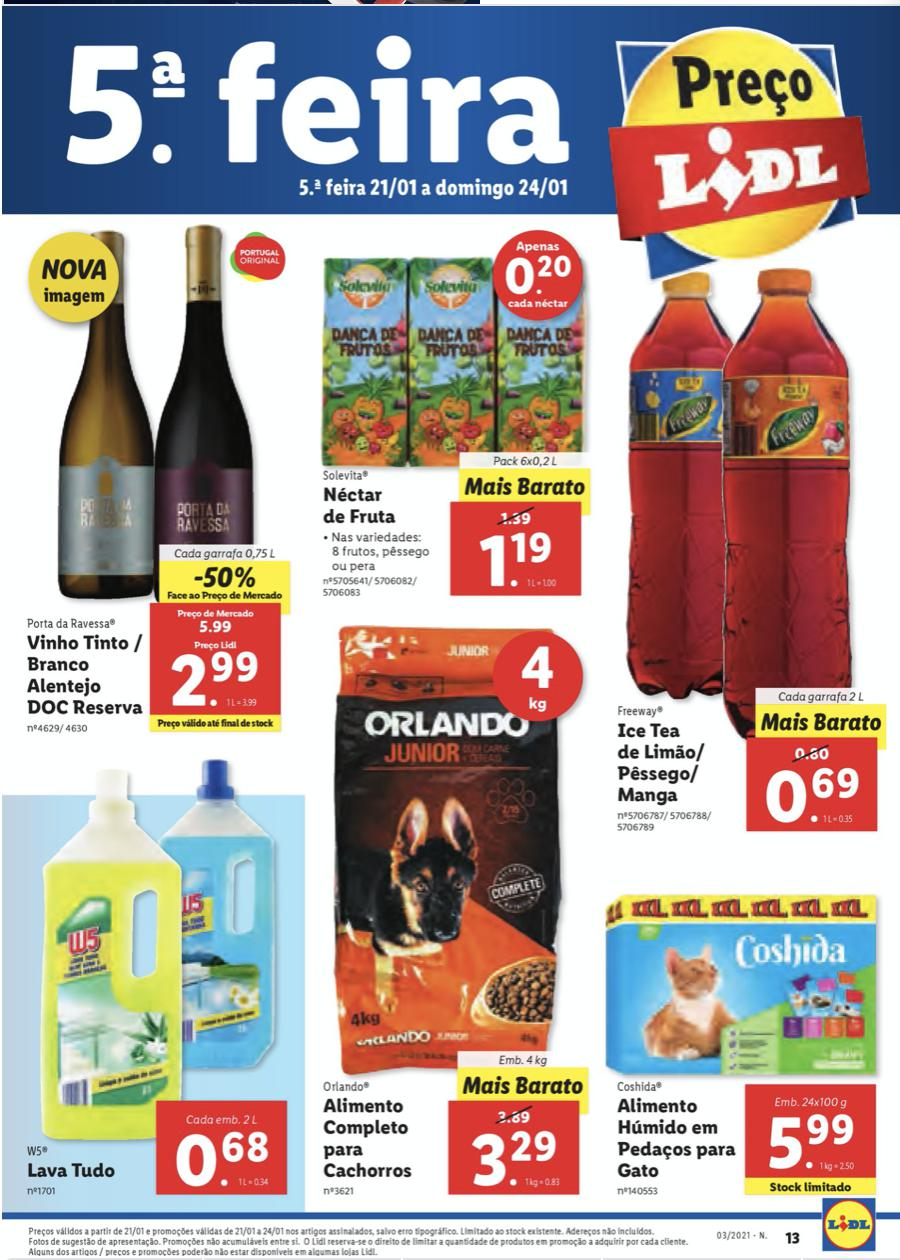name: (614, 1096, 739, 1181), (21, 631, 145, 716), (320, 1096, 420, 1182), (612, 716, 706, 806), (321, 485, 400, 527), (23, 1159, 121, 1184)
price: (156, 643, 265, 712), (460, 1129, 559, 1195), (178, 1129, 273, 1193), (768, 765, 864, 826), (764, 1112, 854, 1173), (475, 529, 562, 591)
product: (315, 613, 620, 1215), (604, 243, 887, 870), (7, 220, 300, 741), (10, 759, 315, 1215), (320, 226, 620, 615), (598, 884, 892, 1212)
promotion: (189, 565, 262, 591)
